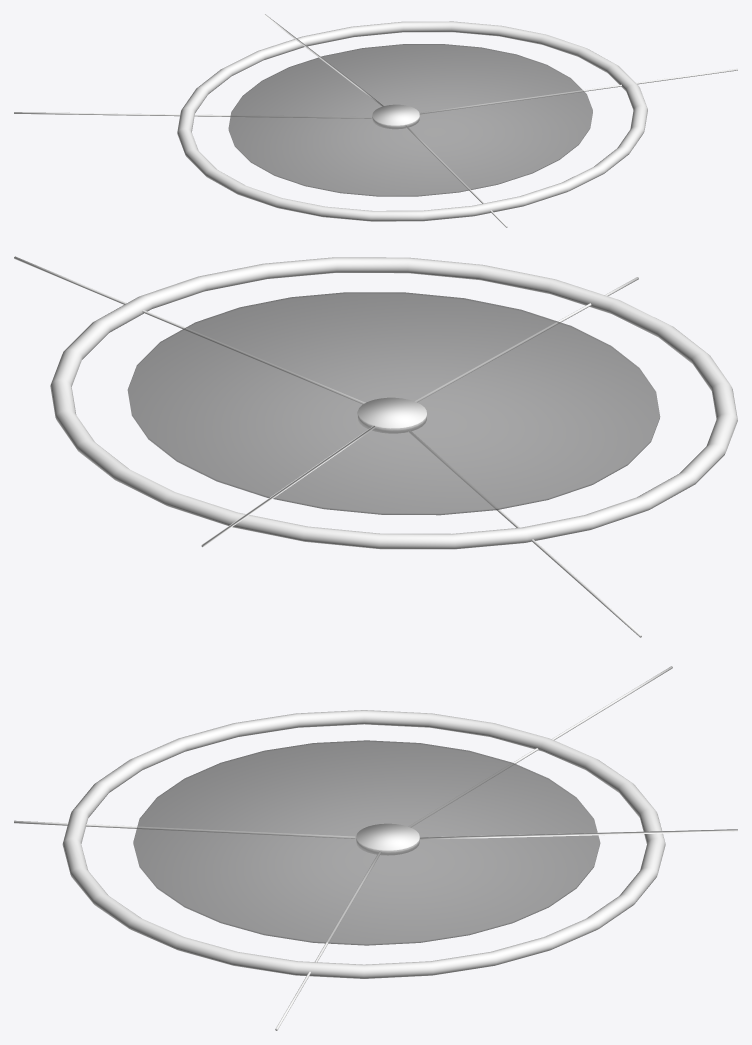
File: second.obj
The picture shows the model from 3 angles, top to bottom: view 1: azimuth 30°, elevation 25°; view 2: azimuth 150°, elevation 25°; view 3: azimuth 270°, elevation 25°; orthographic projection. The views are drawn at different scales.
Size of the model in its own units: 701 by 17.13 by 569.
